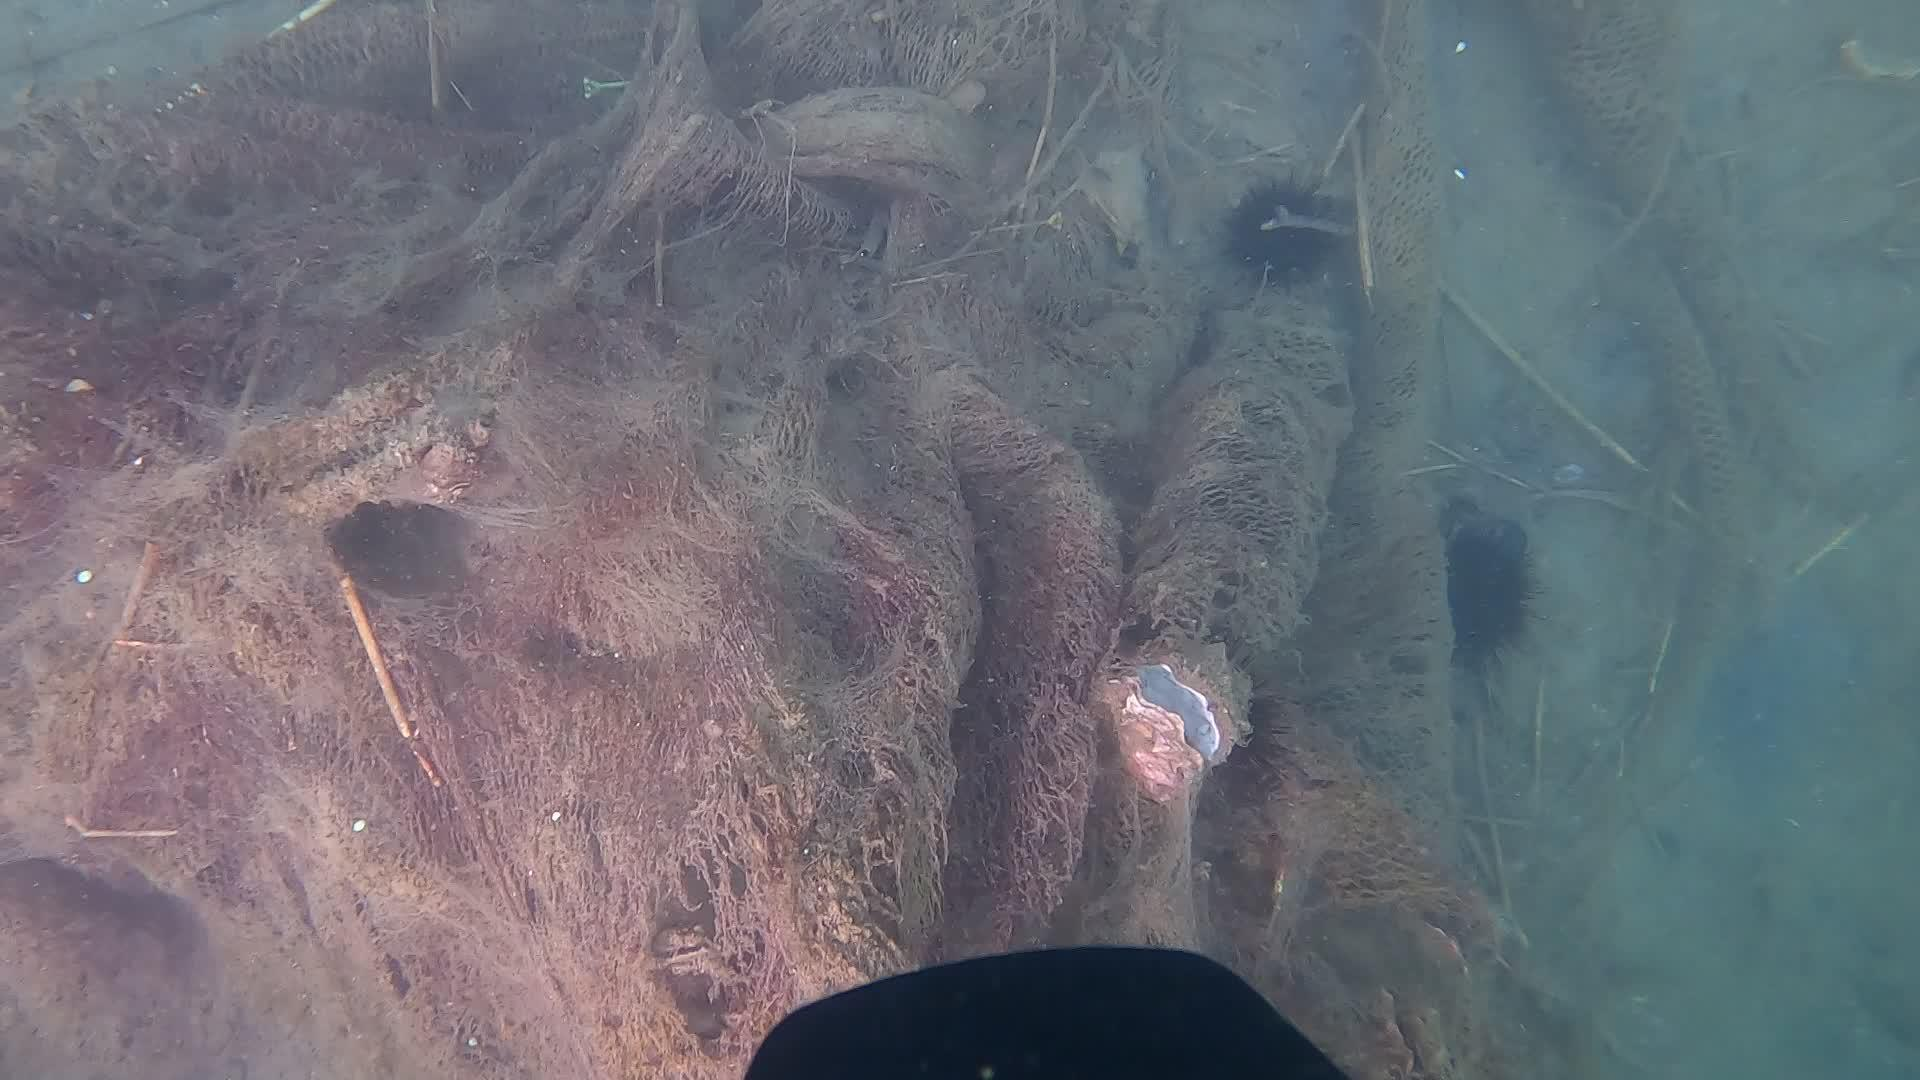fish net: (953, 611, 1102, 894), (219, 0, 422, 154), (1201, 323, 1335, 545), (1564, 0, 1668, 161), (1365, 44, 1436, 269), (1325, 791, 1429, 910), (1663, 335, 1738, 495), (977, 0, 1087, 73)
